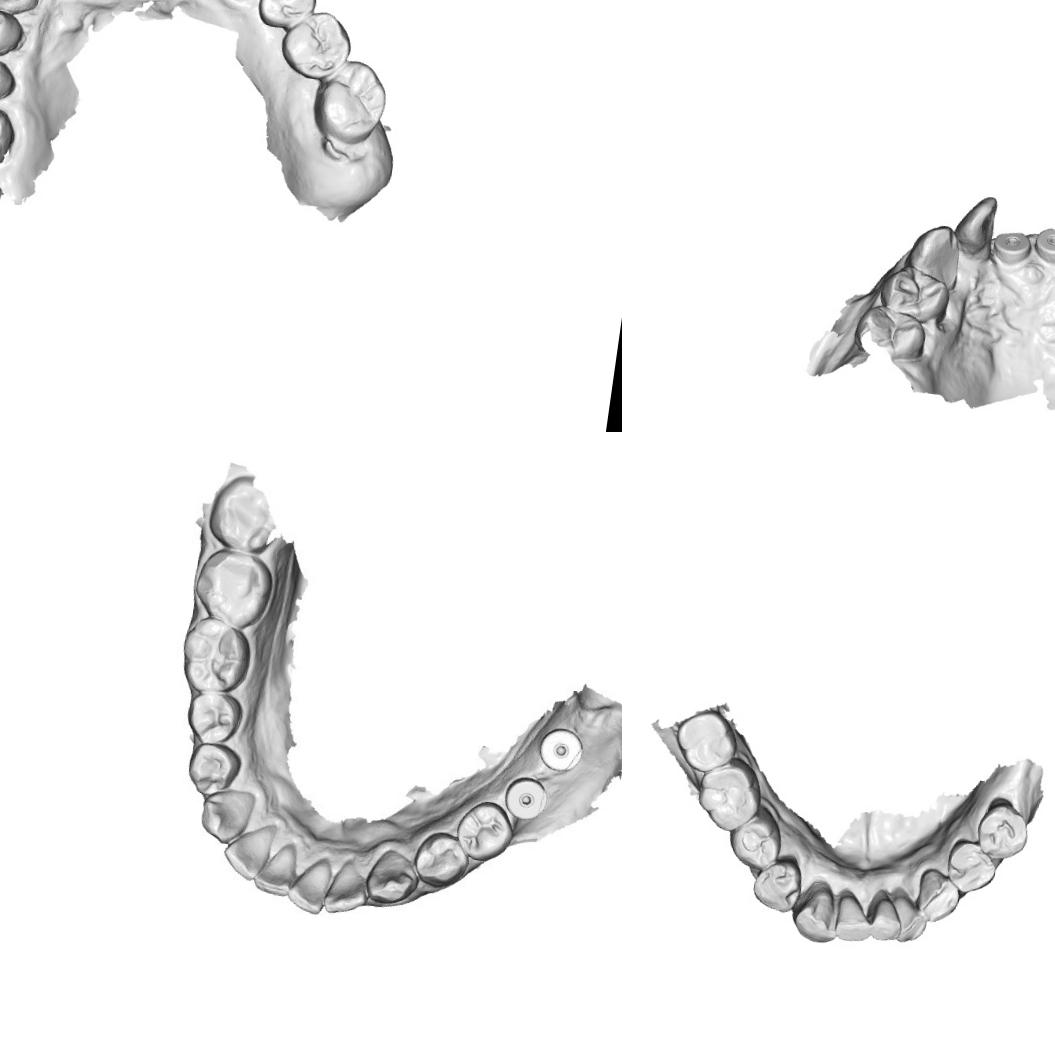canine: (901, 216, 966, 291), (194, 786, 252, 848), (790, 884, 845, 947), (367, 847, 419, 907), (914, 866, 962, 926), (0, 0, 46, 22)
implant: (538, 724, 589, 782), (497, 770, 550, 822), (990, 227, 1034, 268), (1030, 221, 1055, 265)
incisor: (950, 188, 1002, 258), (324, 860, 376, 911), (832, 890, 876, 945), (290, 857, 332, 914), (250, 845, 296, 896), (888, 893, 930, 946), (225, 829, 269, 874), (867, 896, 906, 944)
molar: (307, 53, 393, 150), (174, 612, 255, 698), (193, 545, 274, 630), (276, 5, 358, 87), (693, 752, 767, 836), (671, 704, 742, 776), (0, 89, 21, 175)
premolar: (851, 298, 934, 370), (873, 260, 953, 328), (180, 686, 248, 754), (724, 800, 786, 872), (972, 796, 1032, 864), (185, 737, 245, 803), (943, 836, 1000, 898), (458, 800, 514, 861), (749, 854, 805, 915), (415, 830, 470, 887), (252, 0, 322, 35), (0, 0, 28, 62), (0, 44, 22, 107)
